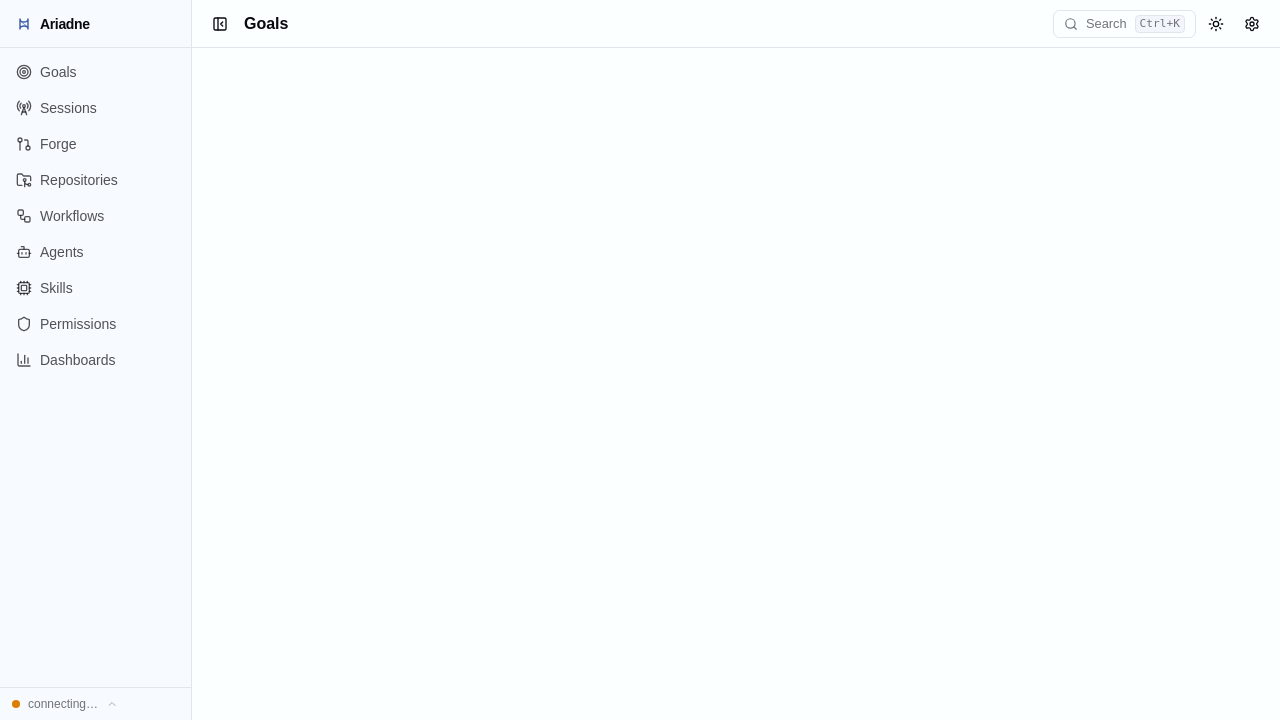
Scenario: renders no footer, and ends the sidebar with the connection status, whose click opens the logs drawer
The width and height of the screenshot is (1280, 720).
Click the button with aria-label "Daemon status" at x=96, y=704, box [0, 687, 191, 719]
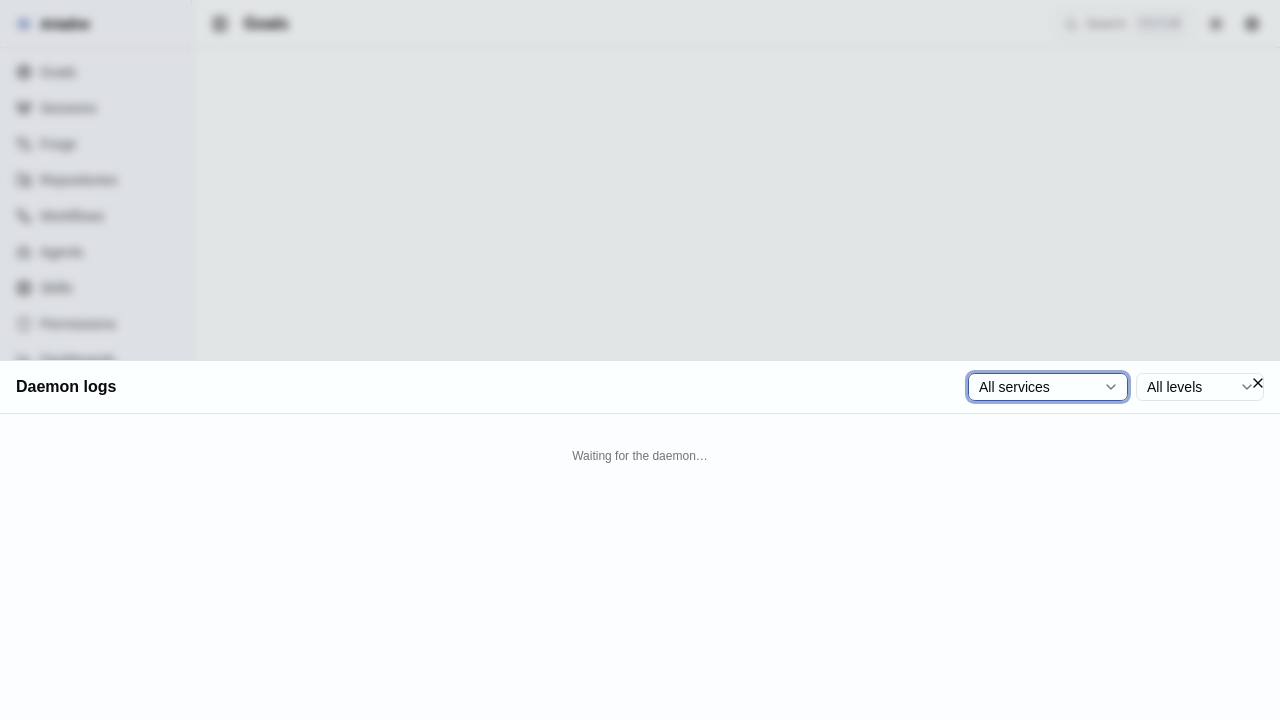
Now the heading "Daemon logs" is shown, box [16, 376, 116, 398]
